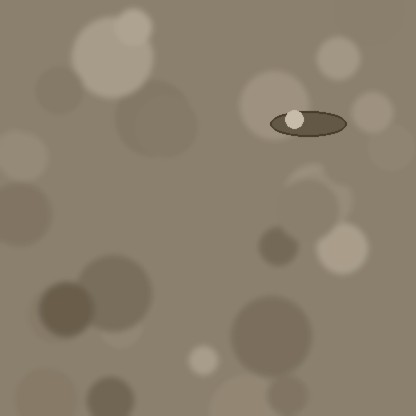gota: (270, 112, 346, 138)
